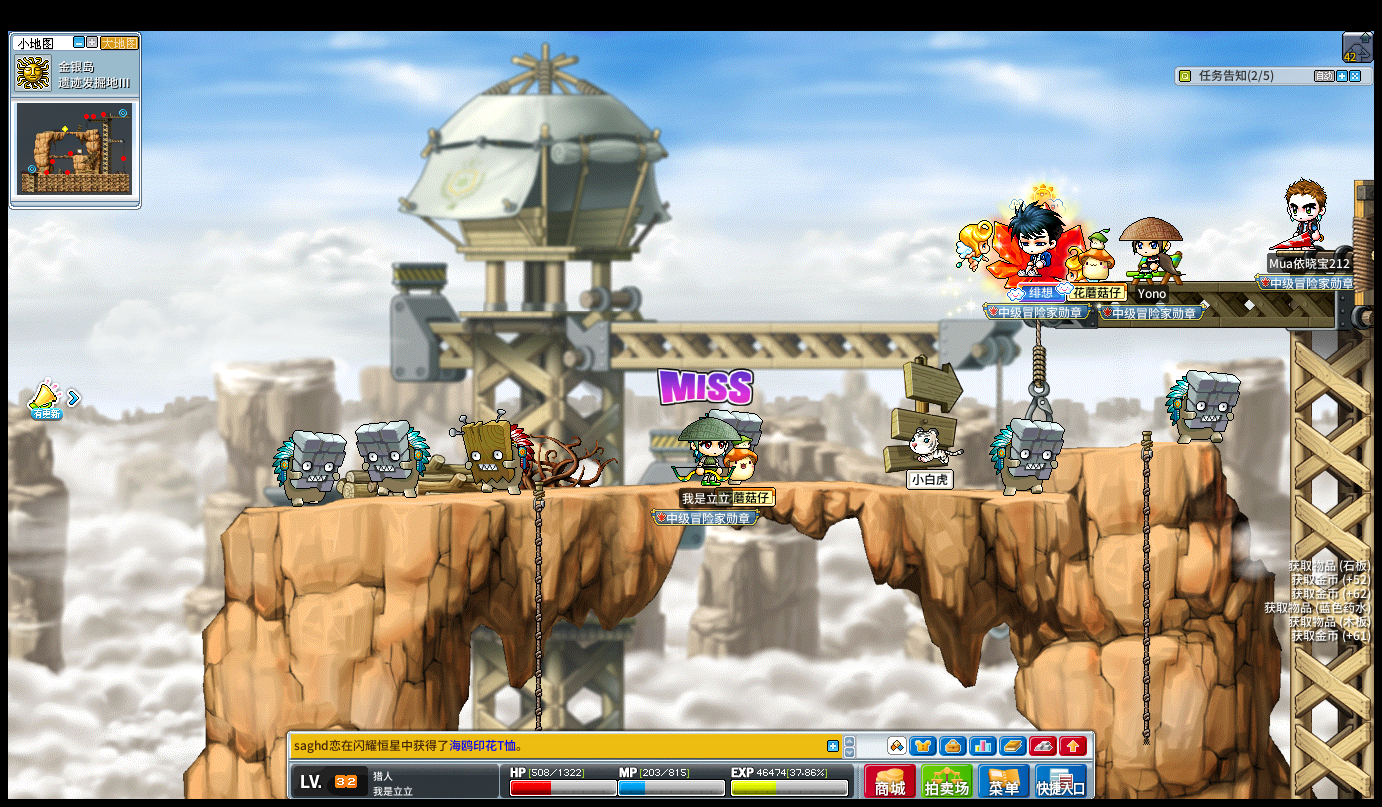floor: (242, 475, 1102, 506), (1066, 438, 1216, 453)
monster: (452, 410, 531, 495), (988, 417, 1064, 497), (355, 419, 430, 499), (270, 429, 344, 509), (1165, 370, 1240, 445)
rope: (1138, 426, 1153, 757), (1139, 432, 1153, 654), (530, 481, 544, 693), (1139, 635, 1151, 741)
